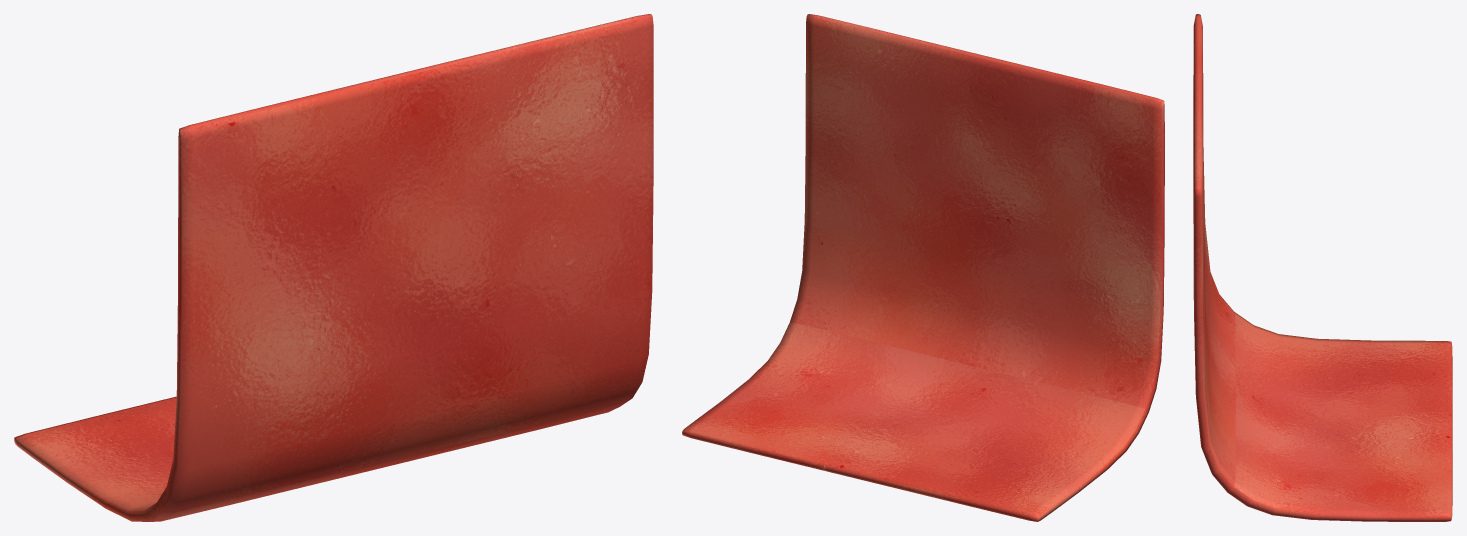
Rendered from BGnariz.fbx.
3 renders of one model, left to right at view 1: azimuth 30°, elevation 25°; view 2: azimuth 150°, elevation 25°; view 3: azimuth 270°, elevation 25°, orthographic. The views are drawn at different scales.
Visible parts, largest first — view 1: BGpeloNariz; view 2: BGpeloNariz; view 3: BGpeloNariz.
Part boxes in pixels (left/top/right/bottom): BGpeloNariz: left=14, top=14, right=653, bottom=521; BGpeloNariz: left=682, top=14, right=1164, bottom=521; BGpeloNariz: left=1193, top=14, right=1452, bottom=521.
Size of the model in its own units: 1104 by 982 by 688.
